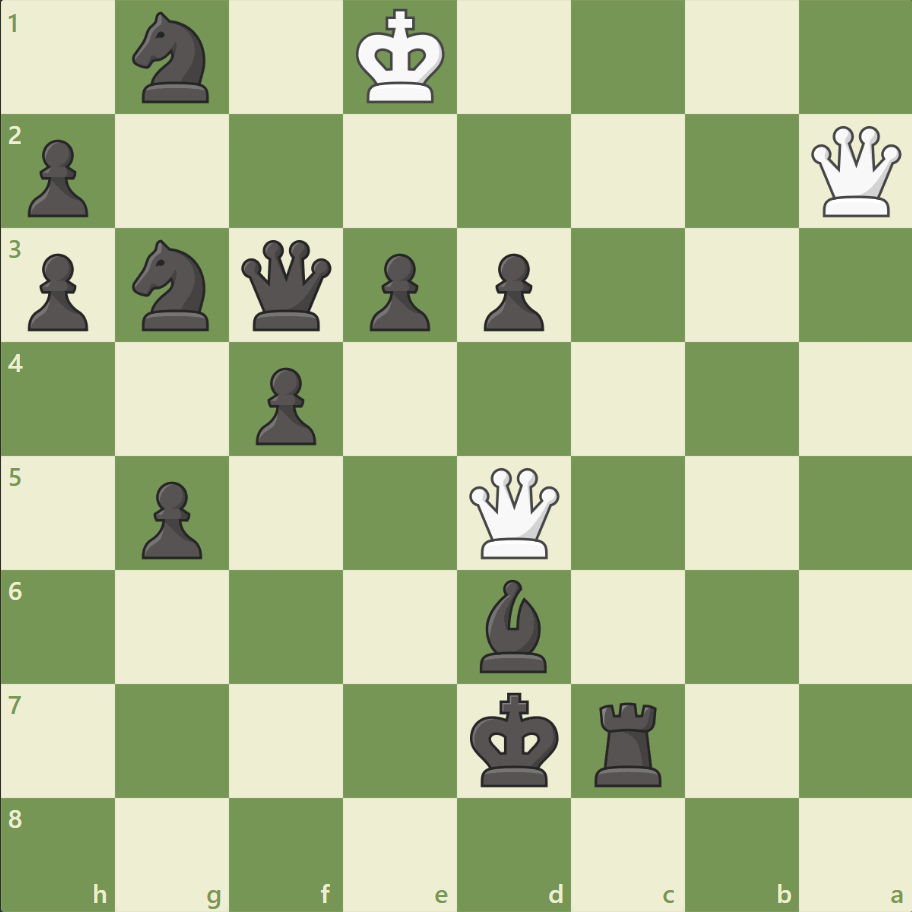K: (351, 4, 451, 112)
Q: (805, 122, 904, 222), (464, 463, 563, 562)
b: (471, 574, 555, 676)
k: (465, 685, 565, 793)
n: (124, 234, 222, 337), (124, 7, 222, 110)
p: (133, 473, 208, 564), (247, 359, 322, 450), (474, 246, 549, 337), (20, 246, 95, 337), (20, 132, 95, 223), (361, 246, 435, 337)
q: (237, 236, 336, 335)
r: (587, 693, 670, 790)
